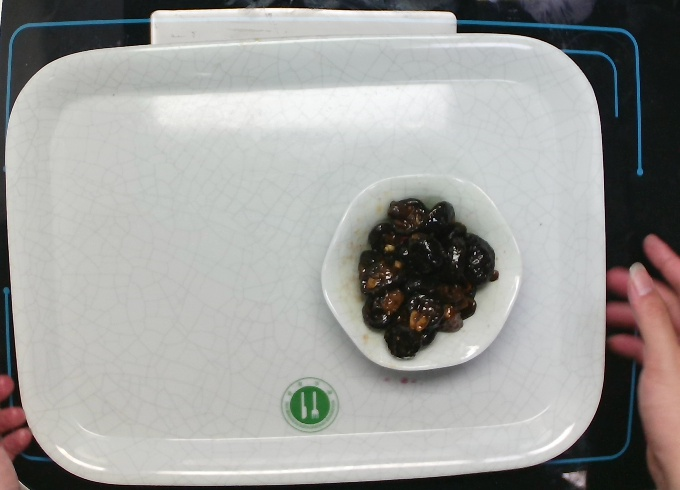WCQzf-Hua_Duo_Wan: (317, 170, 526, 373)
